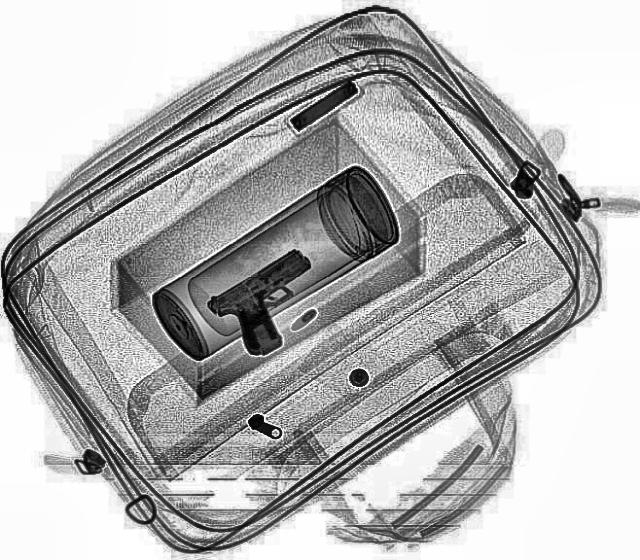Gun: (197, 245, 349, 361)
